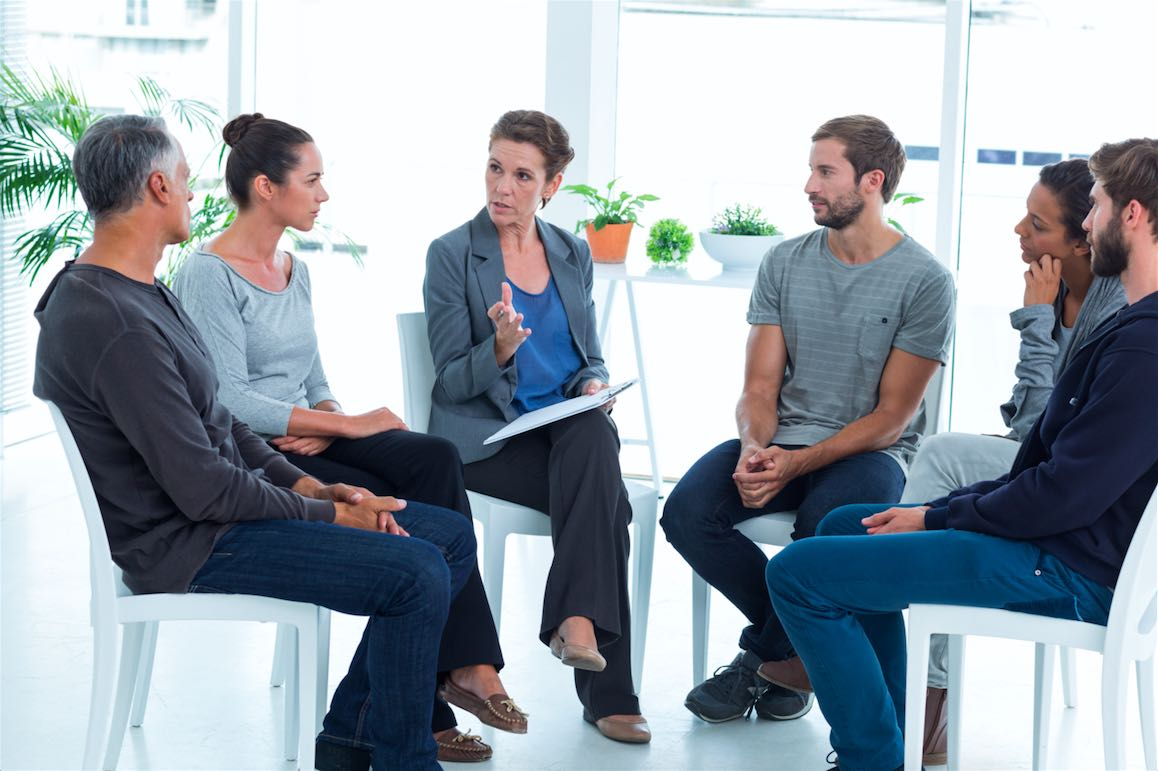Person: (30, 112, 477, 771), (762, 135, 1158, 771), (173, 112, 531, 764), (660, 113, 960, 721), (423, 109, 657, 746)
